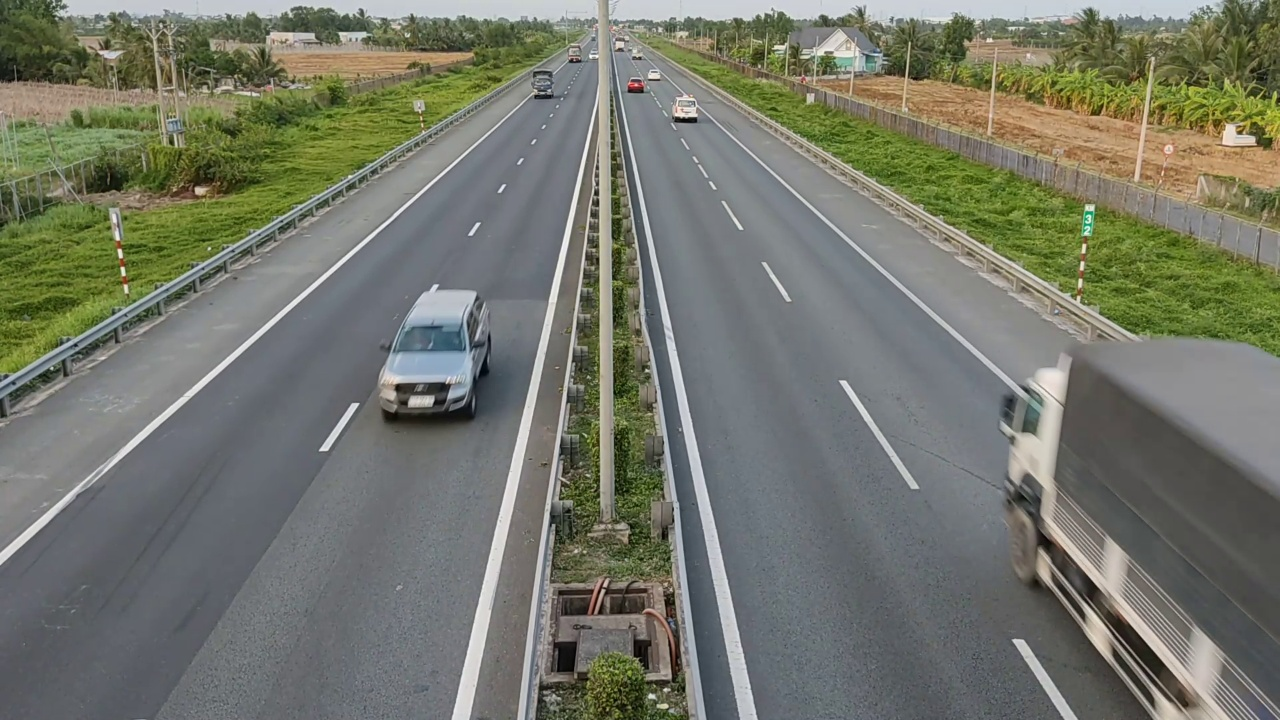car: (377, 285, 493, 421), (671, 93, 700, 123)
truck: (999, 337, 1278, 711)
